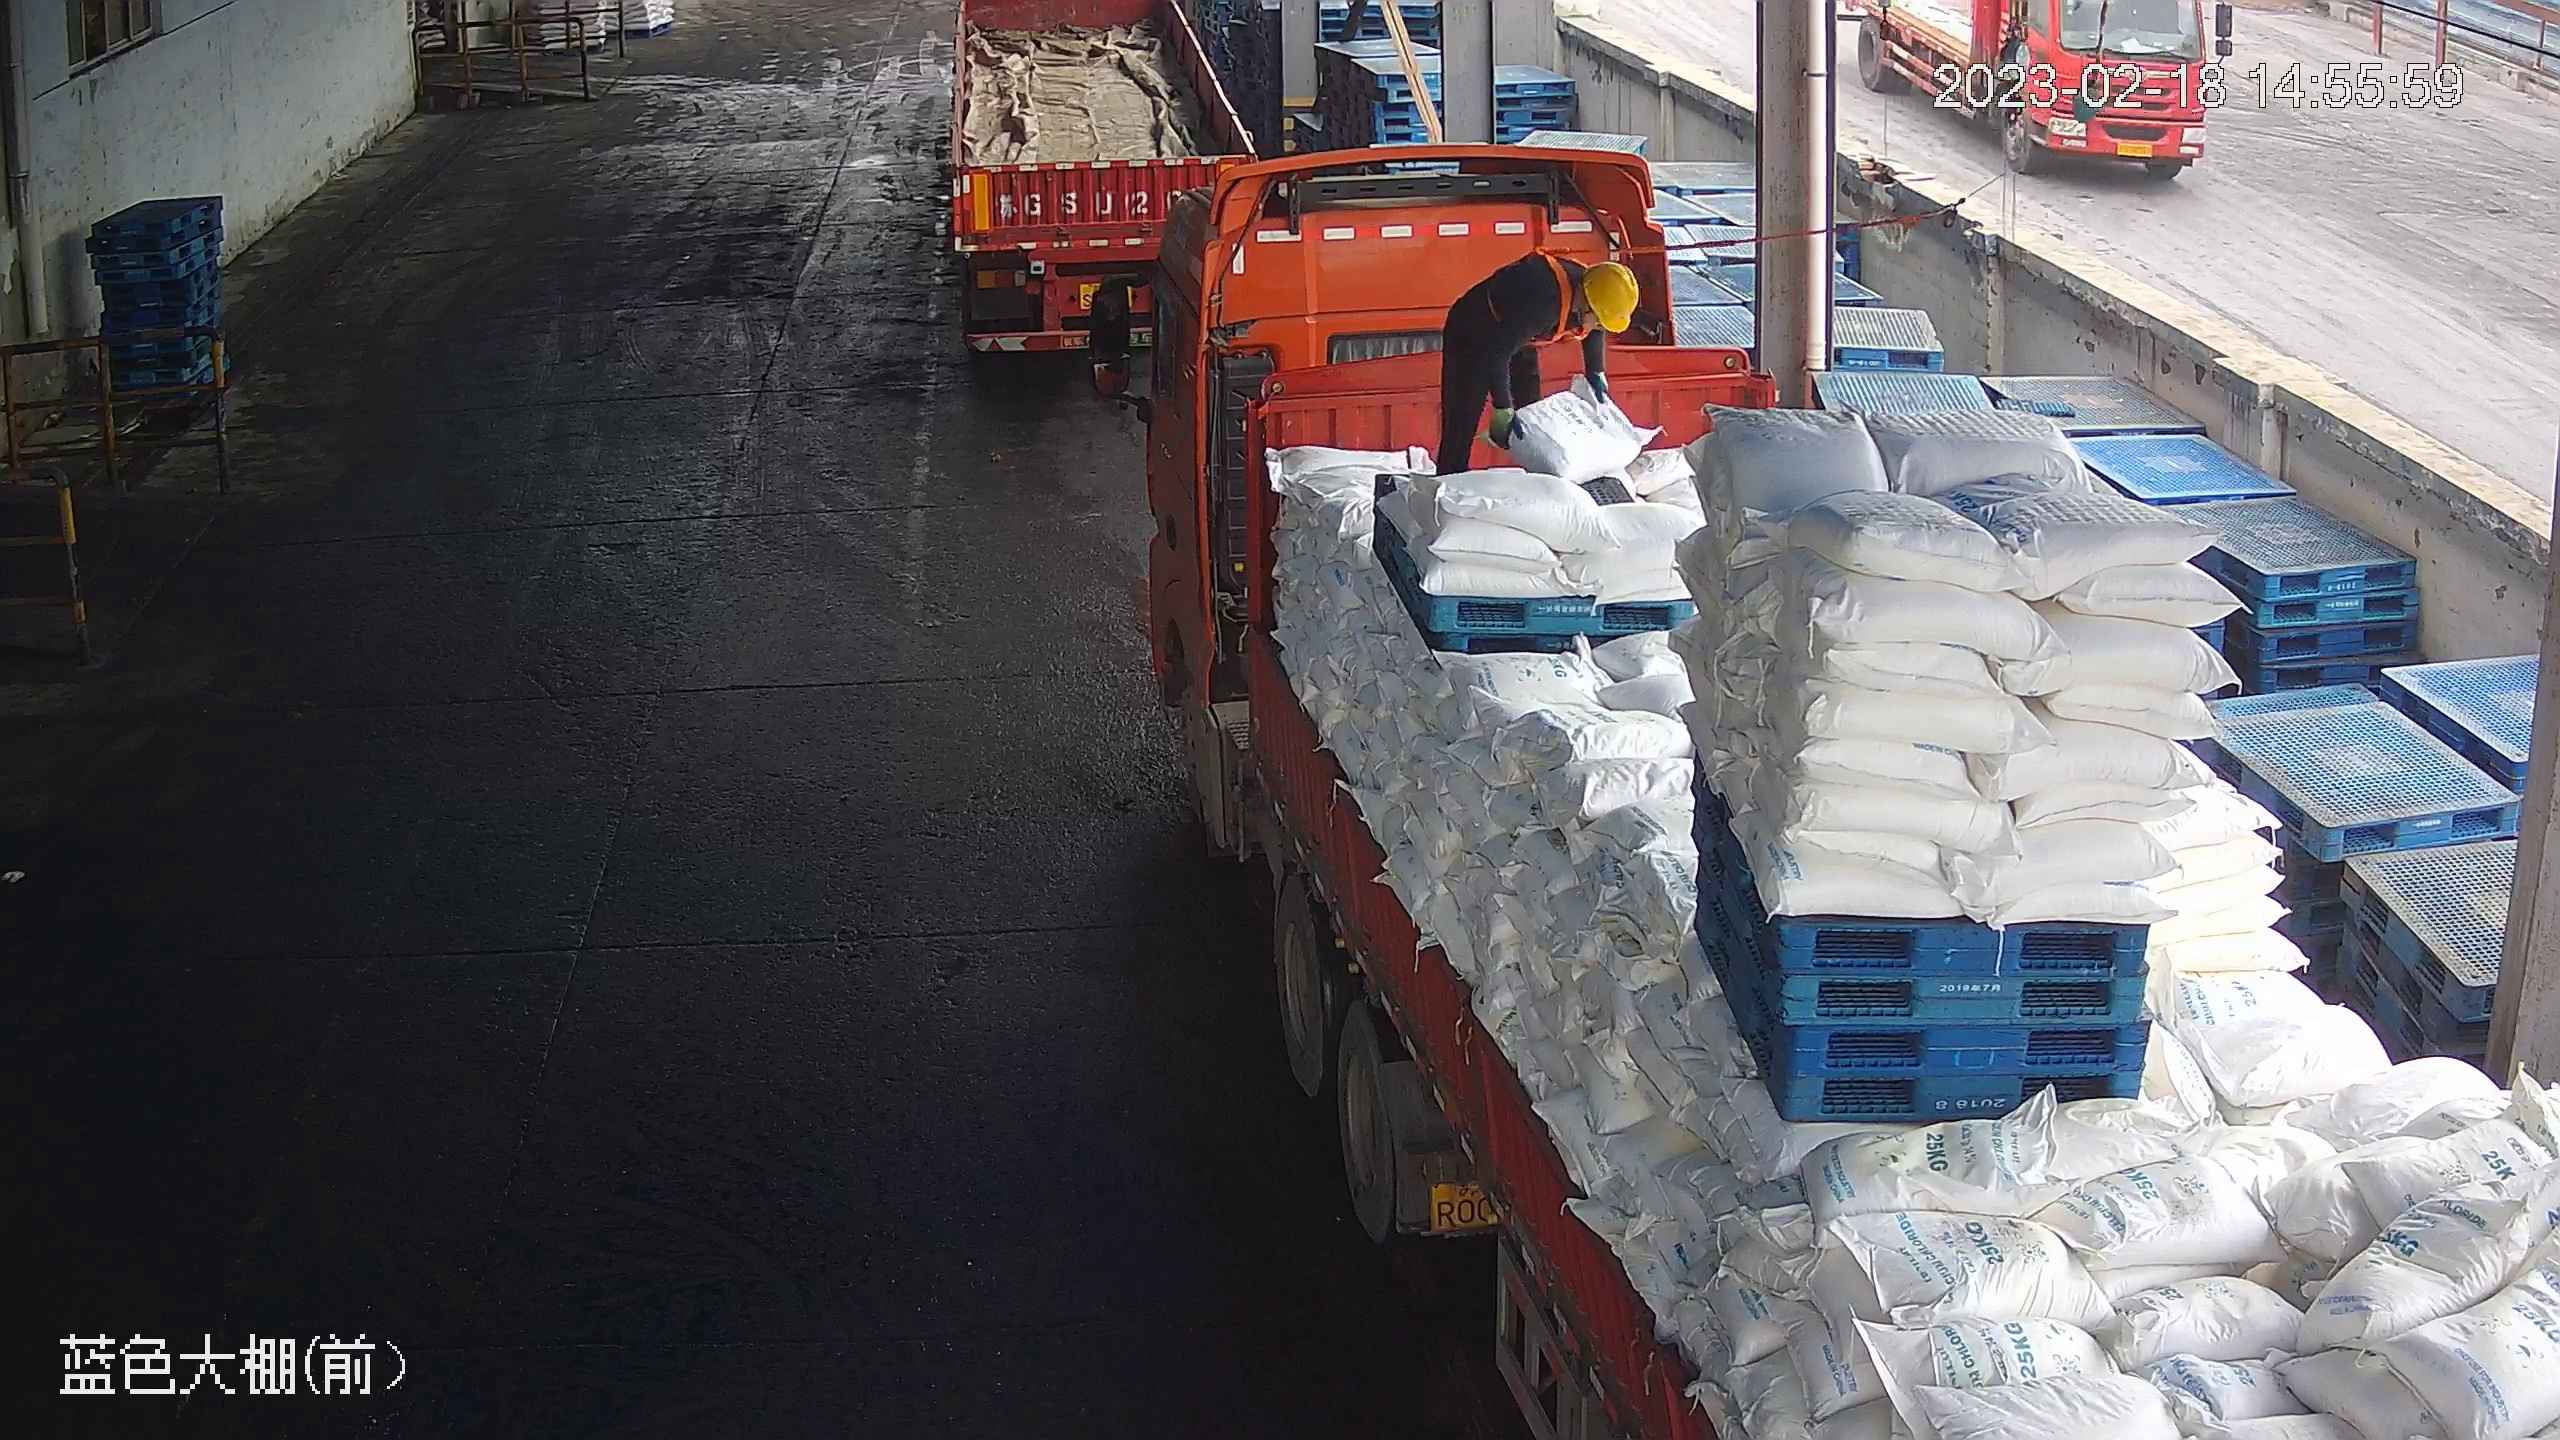belt: (1515, 239, 1578, 320)
head: (1502, 251, 1642, 345)
helmet: (1584, 257, 1642, 334)
people: (1434, 247, 1642, 479)
truck: (1151, 166, 2559, 1440), (920, 1, 1279, 350)
